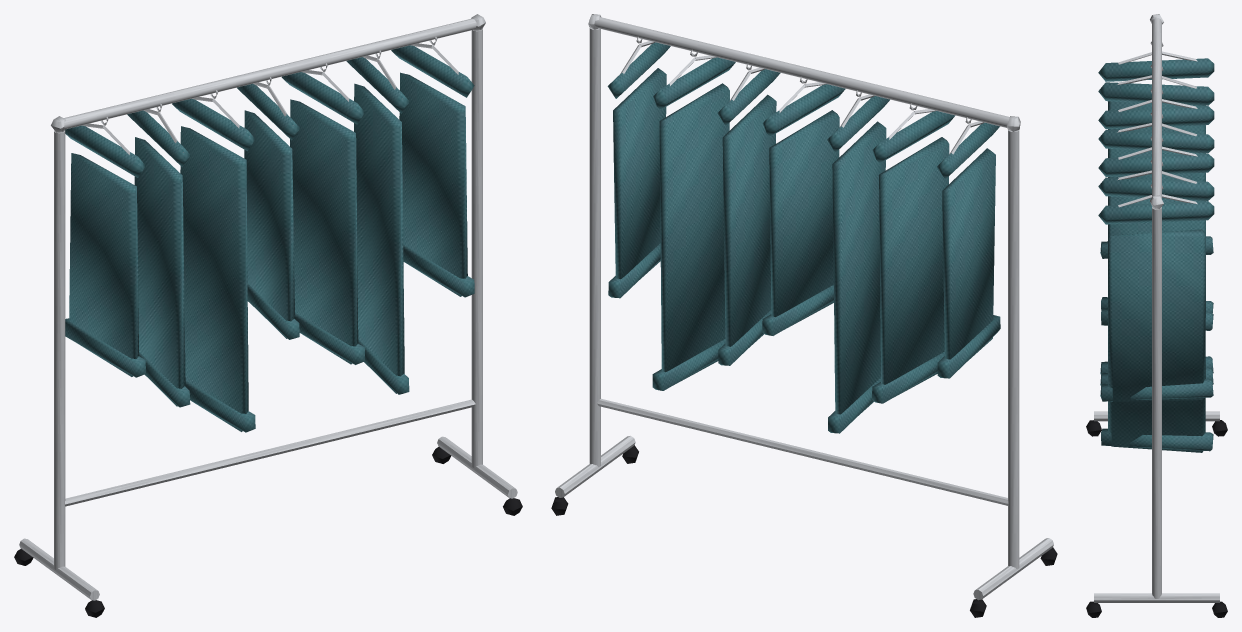
File: arara-15-7-leve.glb
3 views of the same model, side by side, from view 1: azimuth 30°, elevation 25°; view 2: azimuth 150°, elevation 25°; view 3: azimuth 270°, elevation 25° (orthographic). The views are drawn at different scales.
Parts seen in each view (by area): view 1: corpo.002, corpo.004, corpo.005, corpo, corpo.006, corpo.001, corpo.003, coluna, coluna.001, varao, travessa, ombros.004 (+15 smaller); view 2: corpo.005, corpo.001, corpo.002, corpo.003, corpo.004, corpo, corpo.006, coluna, coluna.001, varao, travessa, ombros.003 (+15 smaller); view 3: corpo.006, corpo.005, coluna.001, ombros.006, ombros, ombros.001, ombros.005, ombros.004, ombros.002, ombros.003, varao, pe.001 (+10 smaller).
Boxes of the visible parts, x1,y1,x2,y2 form: corpo.002: (180, 126, 248, 431); corpo.004: (290, 99, 358, 364); corpo.005: (354, 83, 404, 393); corpo: (69, 153, 138, 376); corpo.006: (399, 72, 467, 296); corpo.001: (134, 137, 185, 406); corpo.003: (244, 110, 294, 338); coluna: (54, 130, 65, 569); coluna.001: (471, 28, 482, 467); varao: (64, 18, 476, 129); travessa: (65, 399, 475, 506); ombros.004: (281, 72, 364, 124); corpo.005: (659, 83, 729, 383); corpo.001: (879, 137, 949, 396); corpo.002: (832, 121, 886, 415); corpo.003: (769, 110, 839, 329); corpo.004: (722, 94, 776, 347); corpo: (942, 148, 995, 359); corpo.006: (613, 68, 666, 279); coluna: (1008, 129, 1019, 569); coluna.001: (589, 27, 600, 467); varao: (594, 17, 1009, 127); travessa: (597, 398, 1008, 505); ombros.003: (763, 84, 845, 136); corpo.006: (1108, 229, 1205, 401); corpo.005: (1108, 220, 1205, 452); coluna.001: (1152, 207, 1161, 598); ombros.006: (1098, 201, 1214, 224); ombros: (1098, 58, 1214, 81); ombros.001: (1098, 82, 1214, 105); ombros.005: (1098, 177, 1214, 200); ombros.004: (1098, 153, 1214, 176); ombros.002: (1098, 106, 1214, 129); ombros.003: (1098, 130, 1214, 153); varao: (1152, 18, 1161, 199); pe.001: (1094, 593, 1219, 602).
Bounding box in the file's own units: 1.56 × 1.62 × 0.4957.
3 materials, 2 textured.
